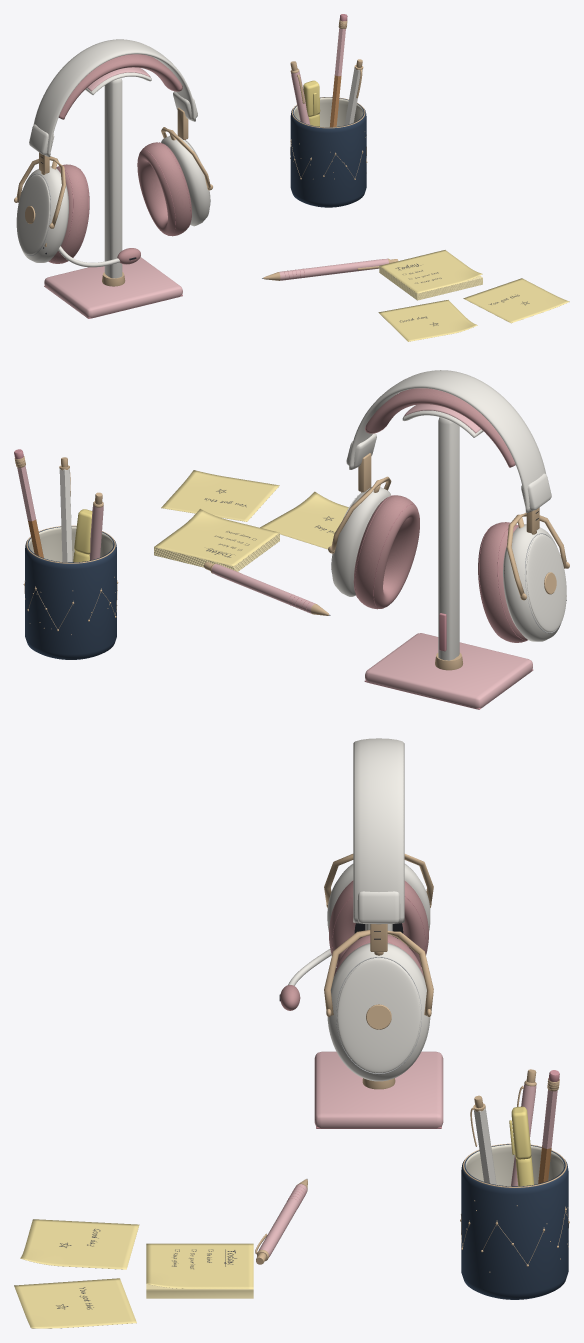
3 renders of one model, top to bottom at view 1: azimuth 30°, elevation 25°; view 2: azimuth 150°, elevation 25°; view 3: azimuth 270°, elevation 25°, orthographic. The views are drawn at different scales.
Parts seen in each view (by area): view 1: D03_Display__D03_Hollow_Ceramic_Vessel, D02_Display__D02_Weighted_Base, D01_Display__D01_Headband_Shell, D01_Display__D01_R_Cushion, D02_Display__D02_Flattened_Upright, D08_Display__D08_Loose_You_Got_This, D08_Display__D08_Top_Curled_Sheet, D08_Display__D08_Loose_Good_Day, D01_Display__D01_L_Cushion, D01_Display__D01_L_Inset_Outer_Panel, D01_Display__D01_L_Acoustic_Housing, D01_Display__D01_Headband_Padded_Underside (+7 smaller); view 2: D03_Display__D03_Hollow_Ceramic_Vessel, D02_Display__D02_Weighted_Base, D01_Display__D01_Headband_Shell, D01_Display__D01_R_Cushion, D02_Display__D02_Flattened_Upright, D08_Display__D08_Top_Curled_Sheet, D08_Display__D08_Loose_You_Got_This, D01_Display__D01_L_Cushion, D01_Display__D01_L_Inset_Outer_Panel, D08_Display__D08_Loose_Good_Day, D01_Display__D01_L_Acoustic_Housing, D01_Display__D01_Headband_Padded_Underside (+13 smaller); view 3: D03_Display__D03_Hollow_Ceramic_Vessel, D01_Display__D01_Headband_Shell, D02_Display__D02_Weighted_Base, D01_Display__D01_R_Inset_Outer_Panel, D08_Display__D08_Loose_You_Got_This, D08_Display__D08_Loose_Good_Day, D08_Display__D08_Top_Curled_Sheet, D01_Display__D01_R_Acoustic_Housing, D01_Display__D01_L_Cushion, D01_Display__D01_R_Swivel_Yoke, D01_Display__D01_R_Rail_Sleeve, D01_Display__D01_L_Acoustic_Housing (+4 smaller).
Boxes of the visible parts, box(x1,y1,x2,y2) form: D03_Display__D03_Hollow_Ceramic_Vessel: box(290, 97, 366, 207); D02_Display__D02_Weighted_Base: box(44, 257, 182, 318); D01_Display__D01_Headband_Shell: box(33, 39, 195, 156); D01_Display__D01_R_Cushion: box(137, 142, 191, 236); D02_Display__D02_Flattened_Upright: box(104, 78, 122, 278); D08_Display__D08_Loose_You_Got_This: box(463, 278, 569, 323); D08_Display__D08_Top_Curled_Sheet: box(379, 250, 482, 293); D08_Display__D08_Loose_Good_Day: box(378, 300, 477, 341); D01_Display__D01_L_Cushion: box(49, 164, 89, 263); D01_Display__D01_L_Inset_Outer_Panel: box(16, 174, 49, 254); D01_Display__D01_L_Acoustic_Housing: box(21, 166, 68, 262); D01_Display__D01_Headband_Padded_Underside: box(58, 54, 182, 119); D03_Display__D03_Hollow_Ceramic_Vessel: box(25, 526, 116, 659); D02_Display__D02_Weighted_Base: box(365, 633, 532, 708); D01_Display__D01_Headband_Shell: box(349, 370, 545, 512); D01_Display__D01_R_Cushion: box(353, 495, 419, 609); D02_Display__D02_Flattened_Upright: box(438, 417, 459, 660); D08_Display__D08_Top_Curled_Sheet: box(154, 509, 279, 566); D08_Display__D08_Loose_You_Got_This: box(161, 470, 279, 521); D01_Display__D01_L_Cushion: box(478, 522, 527, 642); D01_Display__D01_L_Inset_Outer_Panel: box(526, 534, 566, 631); D08_Display__D08_Loose_Good_Day: box(260, 491, 348, 549); D01_Display__D01_L_Acoustic_Housing: box(503, 524, 560, 641); D01_Display__D01_Headband_Padded_Underside: box(365, 388, 515, 467); D03_Display__D03_Hollow_Ceramic_Vessel: box(461, 1144, 568, 1299); D01_Display__D01_Headband_Shell: box(353, 738, 404, 924); D02_Display__D02_Weighted_Base: box(314, 1051, 443, 1128); D01_Display__D01_R_Inset_Outer_Panel: box(337, 958, 420, 1072); D08_Display__D08_Loose_You_Got_This: box(14, 1278, 136, 1328); D08_Display__D08_Loose_Good_Day: box(20, 1219, 139, 1269); D08_Display__D08_Top_Curled_Sheet: box(146, 1243, 253, 1288); D01_Display__D01_R_Acoustic_Housing: box(327, 943, 430, 1081); D01_Display__D01_L_Cushion: box(329, 881, 428, 966); D01_Display__D01_R_Swivel_Yoke: box(324, 929, 433, 1015); D01_Display__D01_R_Rail_Sleeve: box(357, 891, 400, 923); D01_Display__D01_L_Acoustic_Housing: box(327, 864, 430, 931).
Bounding box in the file's own units: 0.4804 × 0.2715 × 0.3885.
18 materials, 5 textured.
